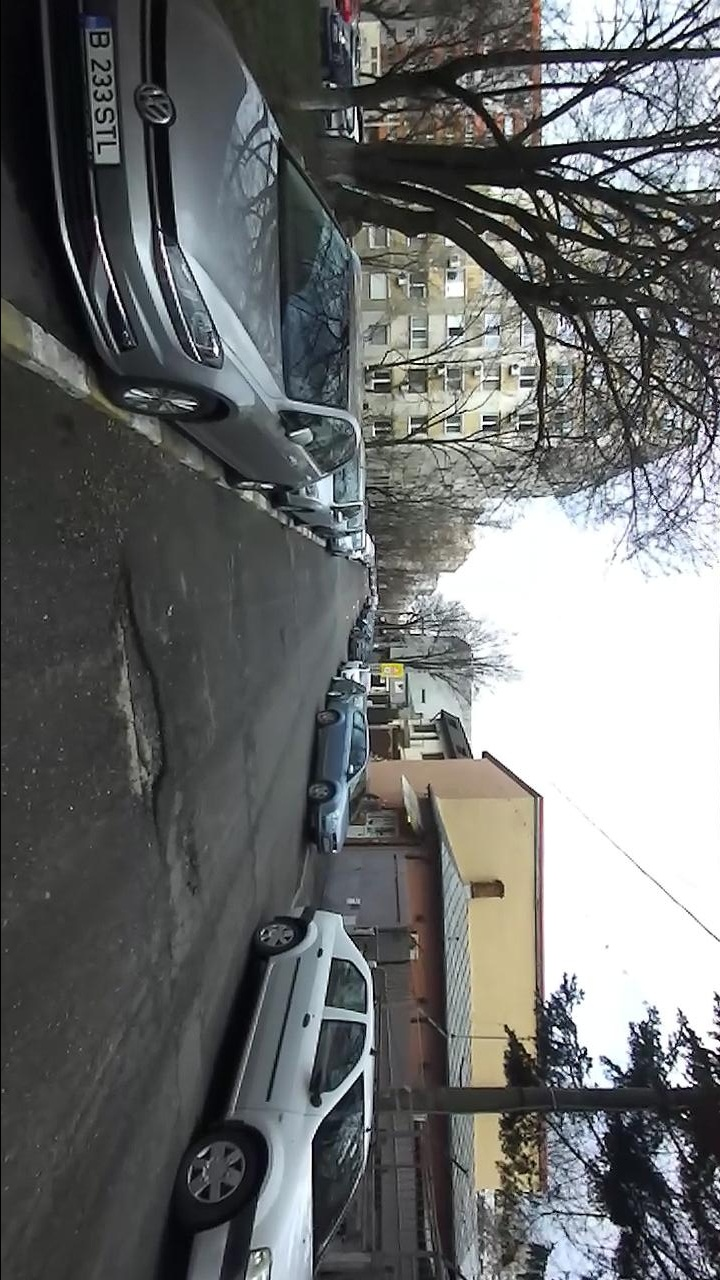pothole: (105, 545, 175, 864), (178, 805, 206, 905)
